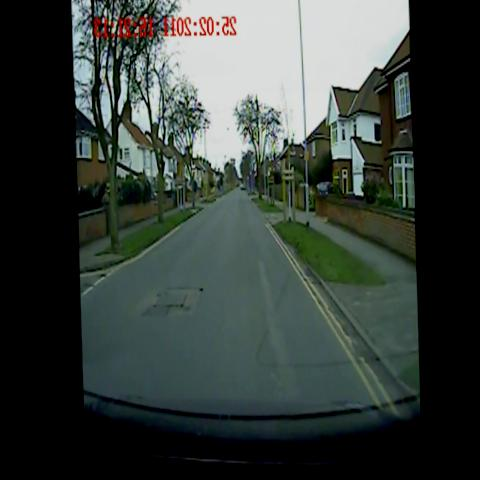pothole: (135, 270, 210, 333)
